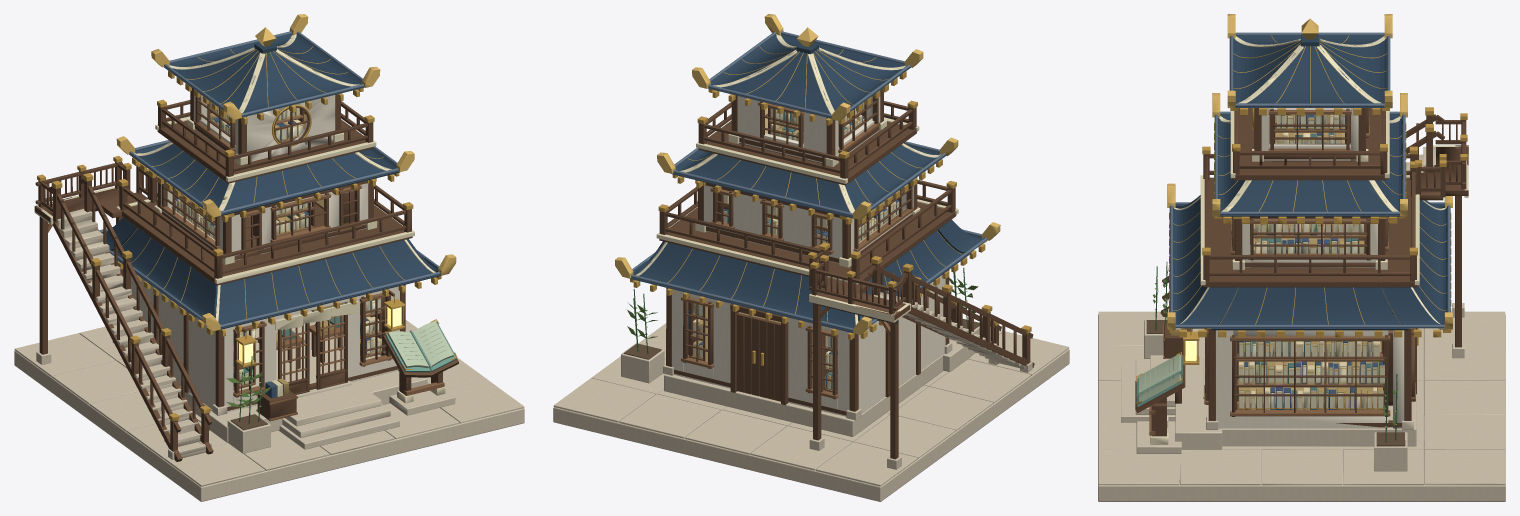
Rendered from library-lod0-dccf10f52a76.glb.
The picture shows the model from 3 angles, left to right: view 1: azimuth 30°, elevation 25°; view 2: azimuth 150°, elevation 25°; view 3: azimuth 270°, elevation 25°; orthographic projection. The views are drawn at different scales.
Visible parts, largest first — view 1: RFbatch_90.022, RFbatch_148.003, RFbatch_49.034, RFbatch_7.034, RFbatch_152.003, RFbatch_4.034, RFbatch_149.003, RFbatch_33.034, RFbatch_50.034, RFbatch_151.003, RFbatch_161.003, RFbatch_155.003 (+2 smaller); view 2: RFbatch_90.022, RFbatch_148.003, RFbatch_49.034, RFbatch_7.034, RFbatch_152.003, RFbatch_4.034, RFbatch_33.034, RFbatch_50.034, RFbatch_149.003, RFbatch_151.003; view 3: RFbatch_90.022, RFbatch_49.034, RFbatch_148.003, RFbatch_7.034, RFbatch_151.003, RFbatch_152.003, RFbatch_149.003, RFbatch_33.034, RFbatch_4.034, RFbatch_50.034, RFbatch_150.003, RFbatch_147.003 (+6 smaller).
Part boxes in pixels (x1=…): RFbatch_90.022: x1=14, y1=209, x2=524, y2=501; RFbatch_148.003: x1=34, y1=88, x2=458, y2=461; RFbatch_49.034: x1=102, y1=34, x2=441, y2=330; RFbatch_7.034: x1=131, y1=95, x2=399, y2=412; RFbatch_152.003: x1=37, y1=46, x2=457, y2=421; RFbatch_4.034: x1=34, y1=34, x2=445, y2=419; RFbatch_149.003: x1=48, y1=111, x2=444, y2=420; RFbatch_33.034: x1=99, y1=31, x2=440, y2=327; RFbatch_50.034: x1=116, y1=14, x2=456, y2=331; RFbatch_151.003: x1=175, y1=101, x2=381, y2=396; RFbatch_161.003: x1=387, y1=321, x2=453, y2=367; RFbatch_155.003: x1=191, y1=107, x2=360, y2=395; RFbatch_90.022: x1=553, y1=292, x2=1069, y2=501; RFbatch_148.003: x1=659, y1=89, x2=1034, y2=459; RFbatch_49.034: x1=630, y1=34, x2=984, y2=334; RFbatch_7.034: x1=672, y1=96, x2=945, y2=416; RFbatch_152.003: x1=630, y1=46, x2=1031, y2=388; RFbatch_4.034: x1=635, y1=34, x2=1013, y2=353; RFbatch_33.034: x1=631, y1=31, x2=987, y2=331; RFbatch_50.034: x1=615, y1=14, x2=1000, y2=334; RFbatch_149.003: x1=681, y1=101, x2=914, y2=398; RFbatch_151.003: x1=693, y1=102, x2=899, y2=388; RFbatch_90.022: x1=1098, y1=147, x2=1505, y2=501; RFbatch_49.034: x1=1173, y1=34, x2=1447, y2=330; RFbatch_148.003: x1=1135, y1=108, x2=1468, y2=436; RFbatch_7.034: x1=1216, y1=108, x2=1404, y2=428; RFbatch_151.003: x1=1239, y1=114, x2=1384, y2=409; RFbatch_152.003: x1=1136, y1=35, x2=1467, y2=408; RFbatch_149.003: x1=1149, y1=110, x2=1415, y2=435; RFbatch_33.034: x1=1169, y1=32, x2=1450, y2=328; RFbatch_4.034: x1=1150, y1=36, x2=1468, y2=444; RFbatch_50.034: x1=1167, y1=14, x2=1452, y2=329; RFbatch_150.003: x1=1238, y1=114, x2=1384, y2=409; RFbatch_147.003: x1=1237, y1=114, x2=1381, y2=403.
Size of the model in its own units: 10 by 10.76 by 10.
24 materials, 6 textured.
